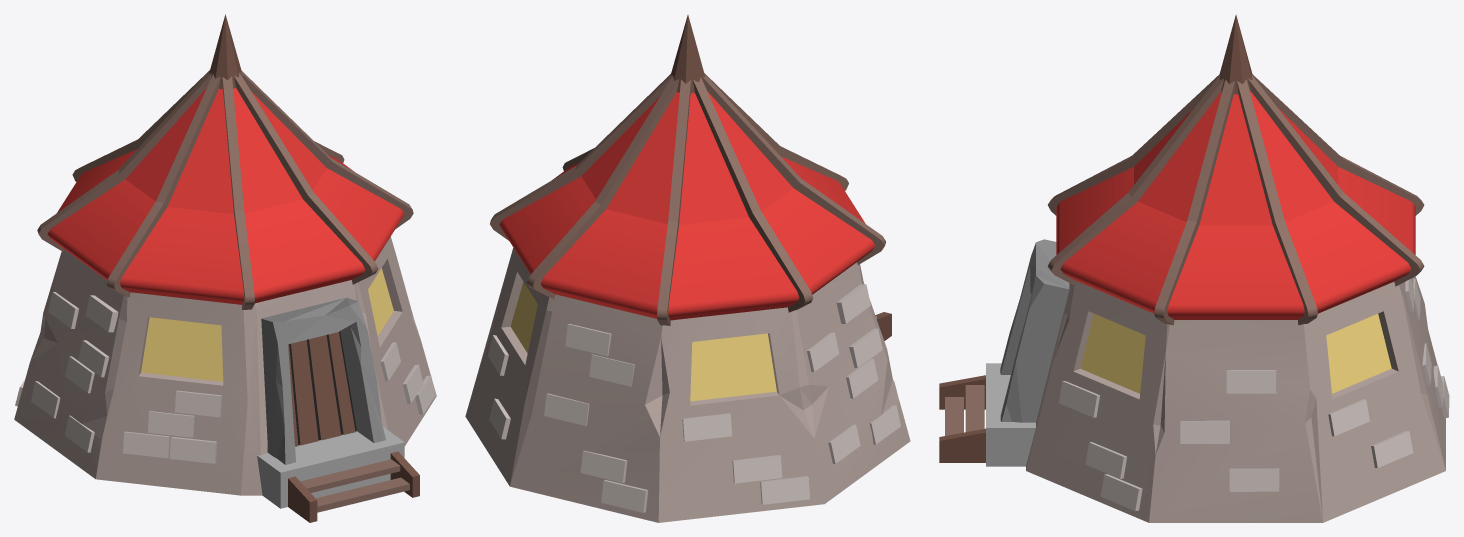
The model's file is house_003.fbx.
3 views of the same model, side by side, from view 1: azimuth 30°, elevation 25°; view 2: azimuth 150°, elevation 25°; view 3: azimuth 270°, elevation 25° (orthographic). The views are drawn at different scales.
Parts seen in each view (by area): view 1: house_003; view 2: house_003; view 3: house_003.
Boxes of the visible parts, x1,y1,x2,y2 form: house_003: (14, 14, 436, 522); house_003: (465, 15, 910, 522); house_003: (939, 14, 1449, 522).
Size of the model in its own units: 438 by 532 by 483.
2 materials, 2 textured.
